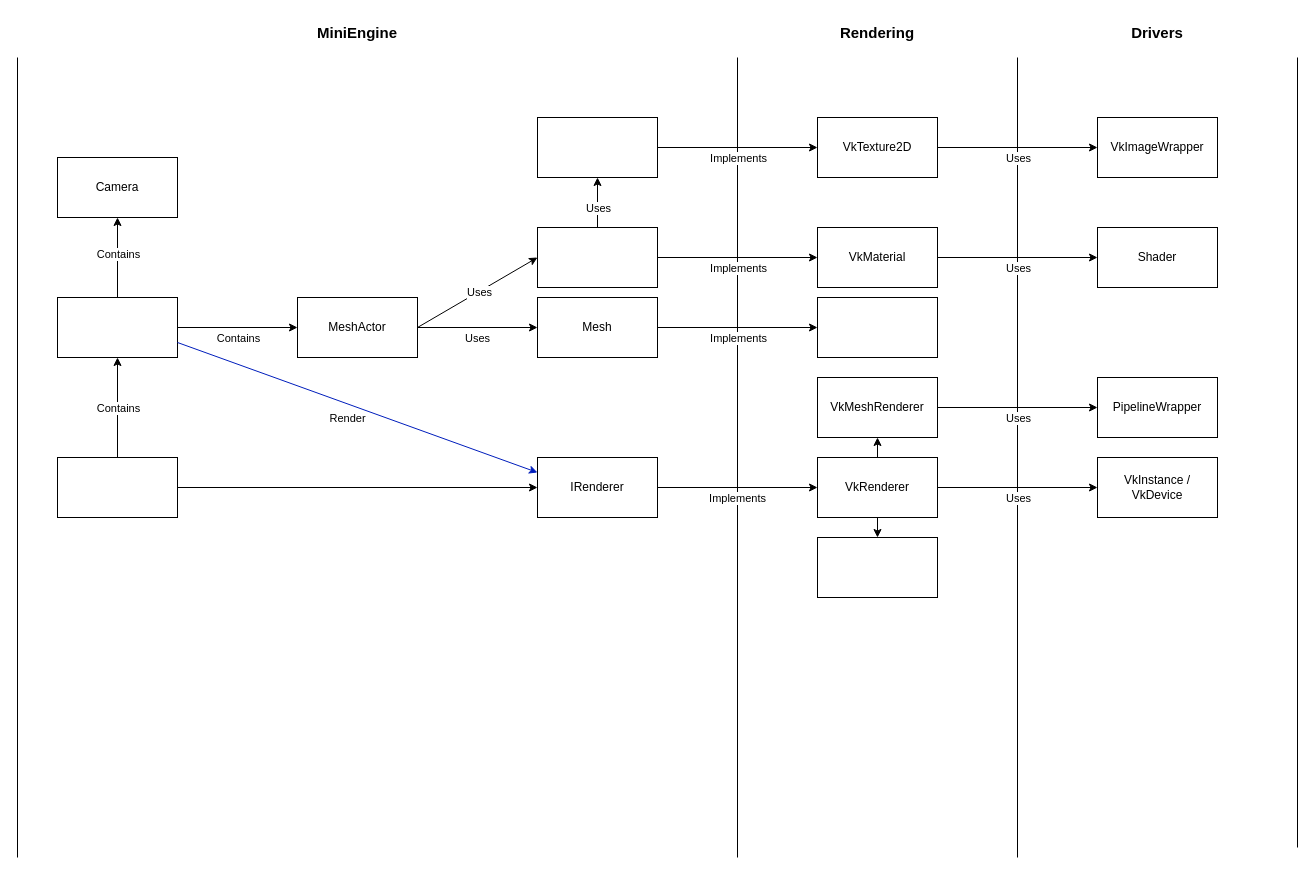
The diagram is 1316 pixels wide and 876 high, and some of its shapes have lost their labels. The centre of each missing label's shape, as x and y in pixels:
Context: (117,487)
Material: (597,257)
Scene: (117,327)
Texture2D: (597,147)
VkMesh: (877,327)
VkResourceFactory: (877,567)
